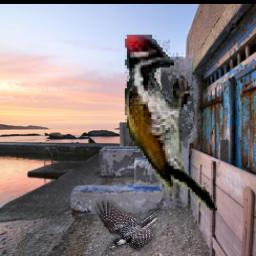Woodpecker: (126, 35, 219, 211), (92, 198, 158, 253)
